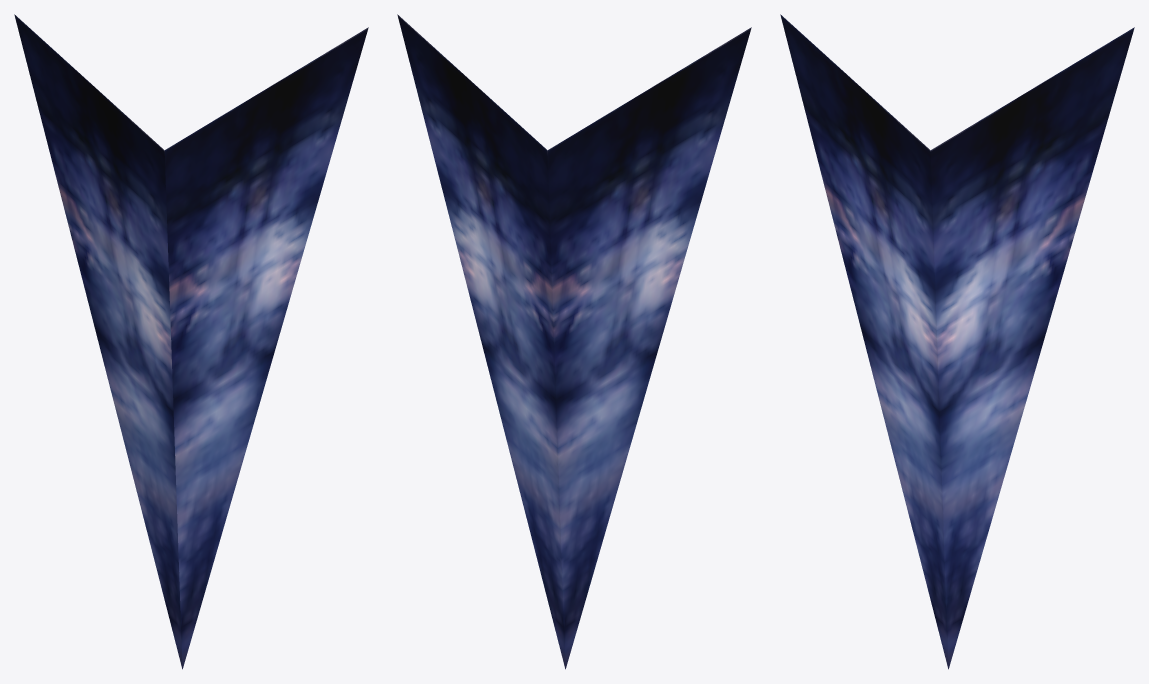
3 views of the same model, side by side, from view 1: azimuth 30°, elevation 25°; view 2: azimuth 150°, elevation 25°; view 3: azimuth 270°, elevation 25° (orthographic).
Visible parts, largest first — view 1: Object25; view 2: Object25; view 3: Object25.
Part boxes in pixels (<box>): Object25: <box>14,14,368,669</box>; Object25: <box>397,14,751,669</box>; Object25: <box>780,14,1134,669</box>.
Bounding box in the file's own units: 1010 × 2095 × 1110.
1 material, 1 textured.
